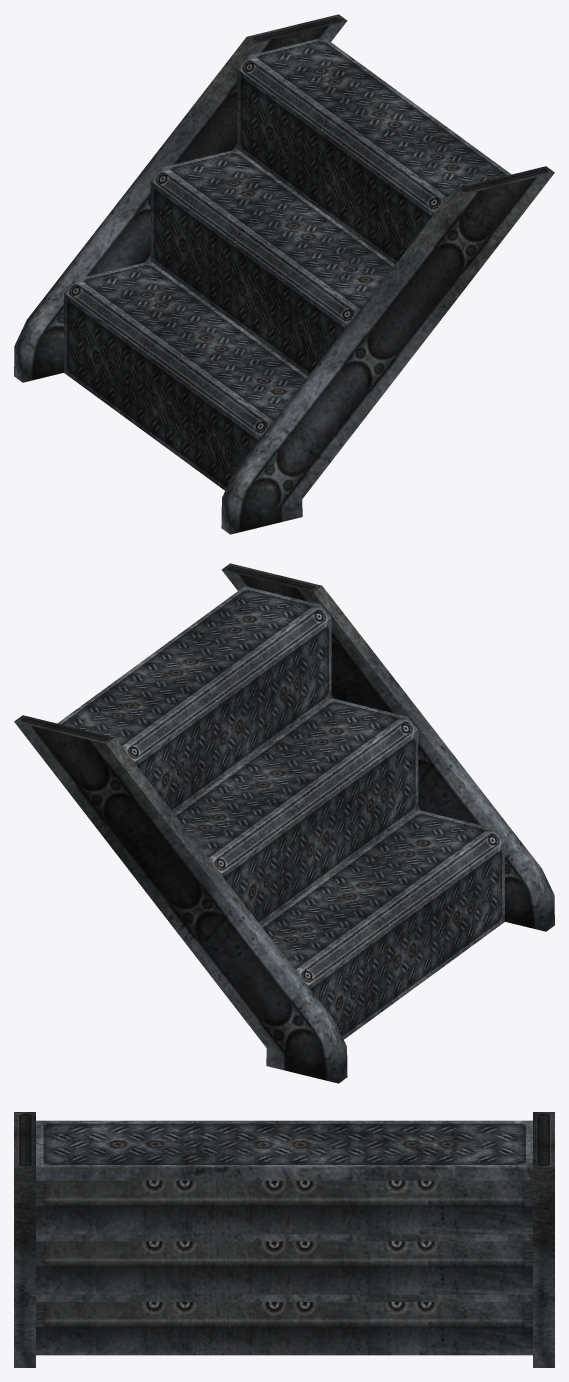
Rendered from metal_closable_bottom.dae.
The picture shows the model from 3 angles, top to bottom: view 1: azimuth 30°, elevation 25°; view 2: azimuth 150°, elevation 25°; view 3: azimuth 270°, elevation 25°; orthographic projection. The views are drawn at different scales.
Visible parts, largest first — view 1: polySurface1000; view 2: polySurface1000; view 3: polySurface1000.
Part boxes in pixels (x1,y1,x2,y2): polySurface1000: [14, 14, 554, 534]; polySurface1000: [14, 563, 554, 1083]; polySurface1000: [14, 1112, 554, 1367].
Bounding box in the file's own units: 1.5 × 1.25 × 1.73.
